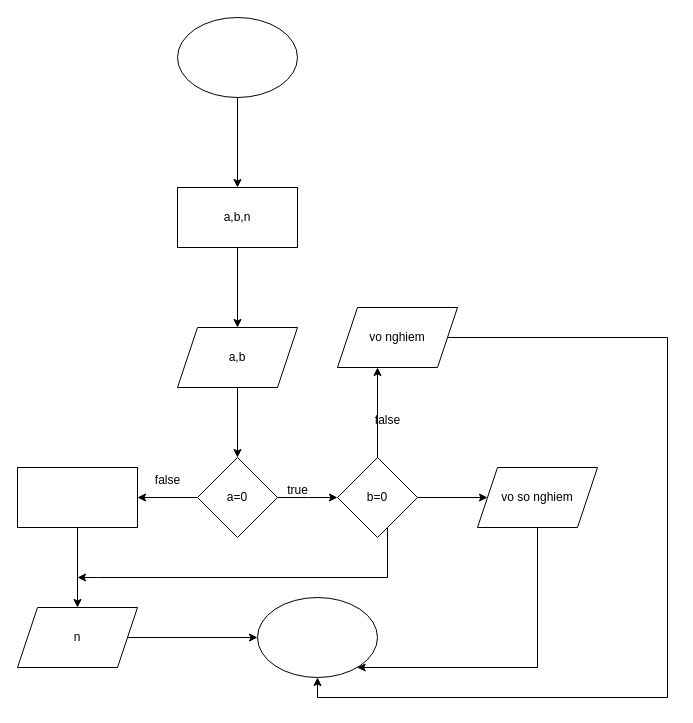
Image size: 693x723. Some labels were removed from this diagram. The shapes that lost their labels are listed below. From the top down, each one's centre as x and y in pixels, then its label:
the point at 237,57: begin
the point at 77,497: n=-b/a
the point at 317,637: end
